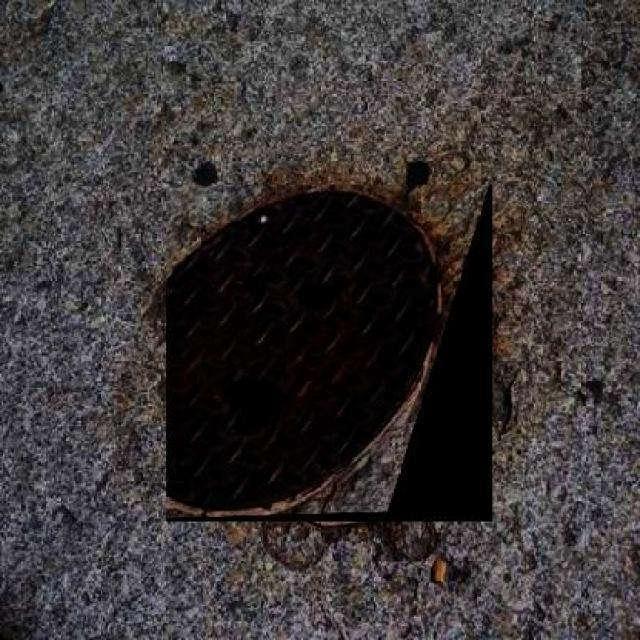Manhole: (166, 184, 492, 522)
